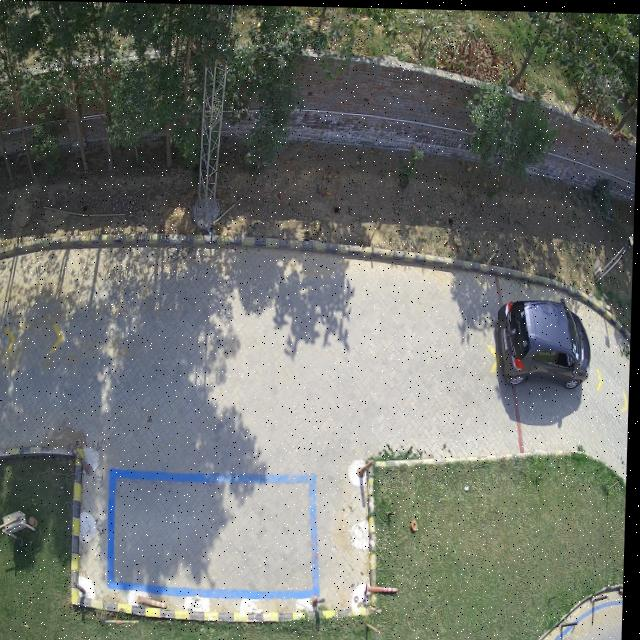car: (499, 297, 593, 387)
